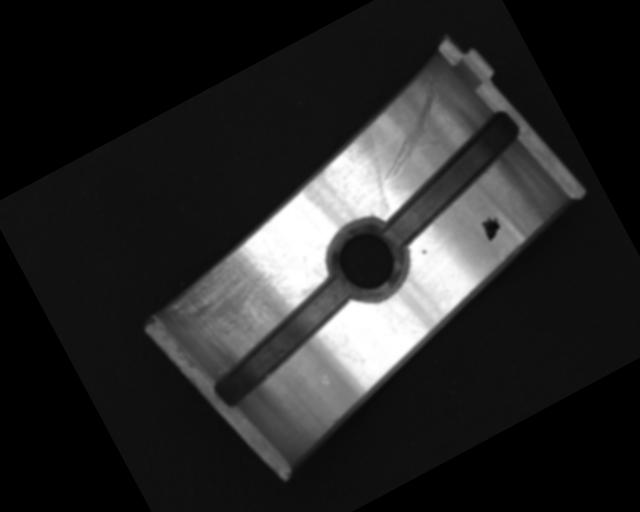blot: (478, 213, 506, 242)
bruise: (317, 371, 332, 387), (421, 248, 428, 255)
gap: (357, 108, 543, 253), (192, 273, 371, 411)
hole: (315, 207, 419, 313)
nick: (341, 69, 473, 191)
scratch: (153, 224, 325, 368)
